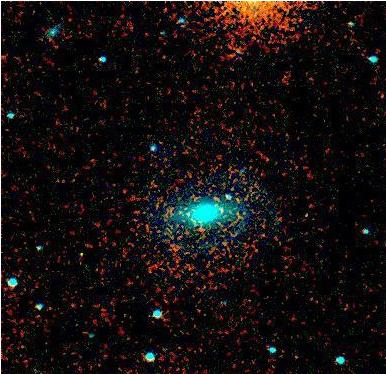star: (65, 239, 95, 269)
